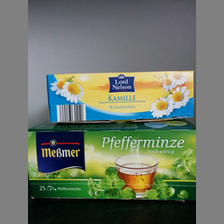tea: (28, 124, 196, 202), (46, 69, 194, 124)
